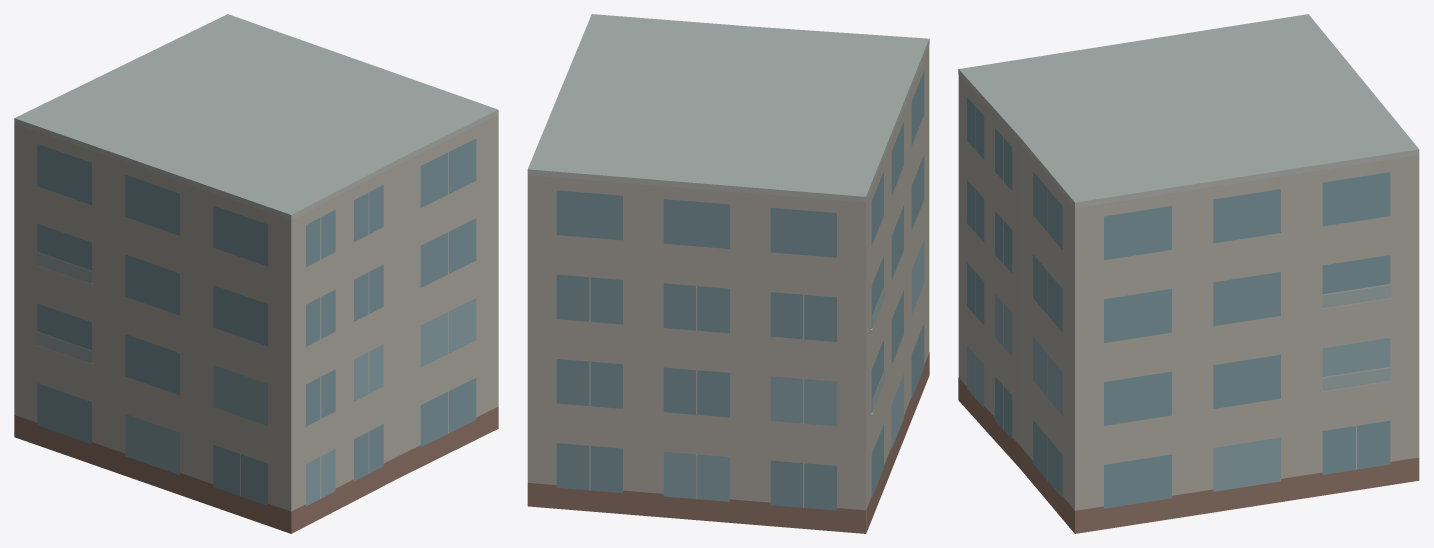
The model's file is survey-upis-33007763.glb.
The picture shows the model from 3 angles, left to right: view 1: azimuth 30°, elevation 25°; view 2: azimuth 150°, elevation 25°; view 3: azimuth 270°, elevation 25°; orthographic projection. The views are drawn at different scales.
Visible parts, largest first — view 1: survey-upis-33007763.tmp; view 2: survey-upis-33007763.tmp; view 3: survey-upis-33007763.tmp.
Part boxes in pixels (bbox=[...]): survey-upis-33007763.tmp: bbox=[14, 14, 498, 533]; survey-upis-33007763.tmp: bbox=[527, 14, 929, 533]; survey-upis-33007763.tmp: bbox=[958, 14, 1419, 533].
Size of the model in its own units: 17.71 by 14.5 by 18.29.
